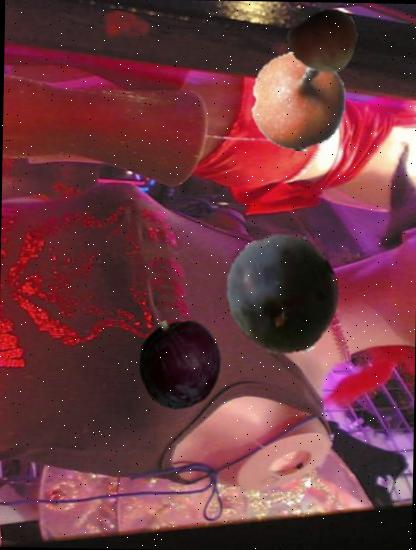Granadilla: (247, 50, 349, 152)
Nut: (292, 8, 362, 78)
Plum: (219, 232, 346, 358), (132, 316, 226, 410)
